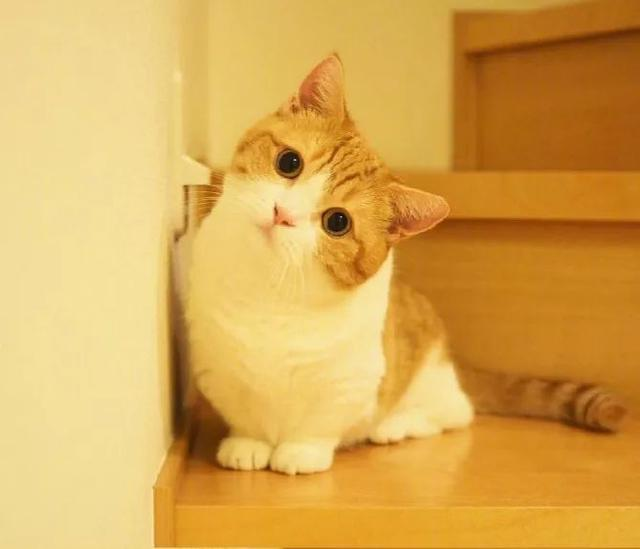cat: (154, 50, 634, 477)
